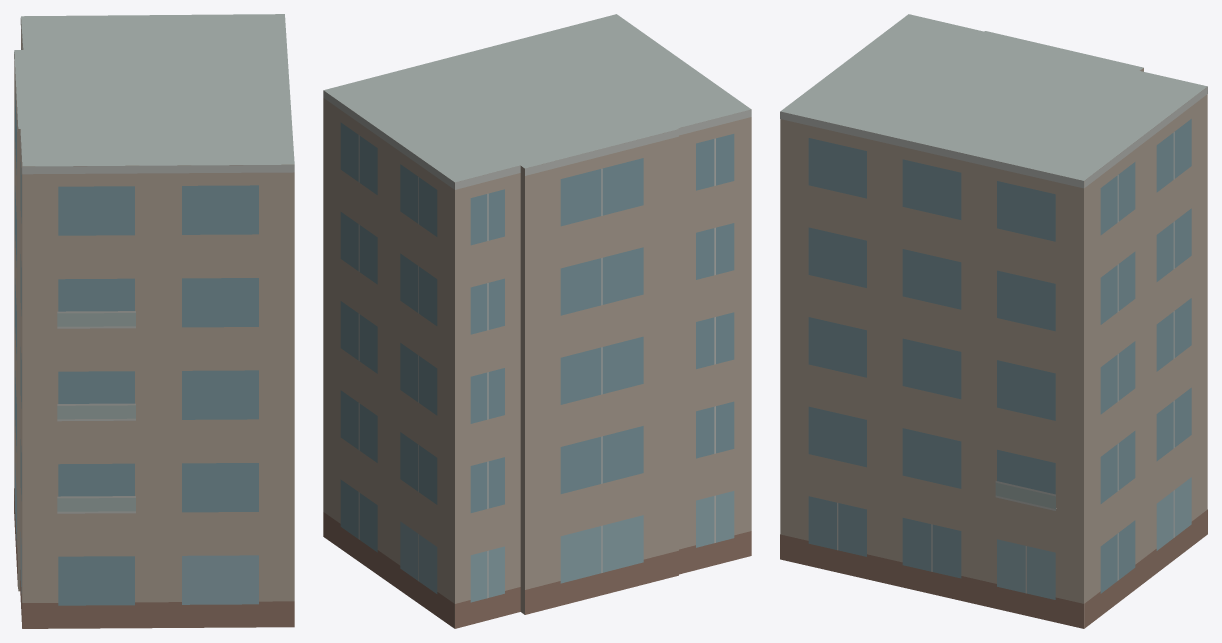
File: survey-upis-32659046.glb
3 renders of one model, left to right at view 1: azimuth 30°, elevation 25°; view 2: azimuth 150°, elevation 25°; view 3: azimuth 270°, elevation 25°, orthographic. The views are drawn at different scales.
Visible parts, largest first — view 1: survey-upis-32659046.tmp; view 2: survey-upis-32659046.tmp; view 3: survey-upis-32659046.tmp.
Part boxes in pixels (x1,y1,x2,y2): survey-upis-32659046.tmp: (14, 14, 294, 628); survey-upis-32659046.tmp: (323, 14, 751, 628); survey-upis-32659046.tmp: (780, 14, 1207, 628).
Bounding box in the file's own units: 11.6 × 14.5 × 12.55.
